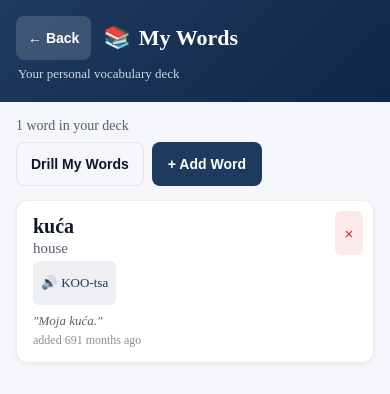
Scenario: MyWordsScreen — delete word › × button removes the word from the list
What coordinates should you click on to do the following:
click the button titled "Delete word"
I would click on:
 (349, 233)
Its box is [335, 211, 363, 255].
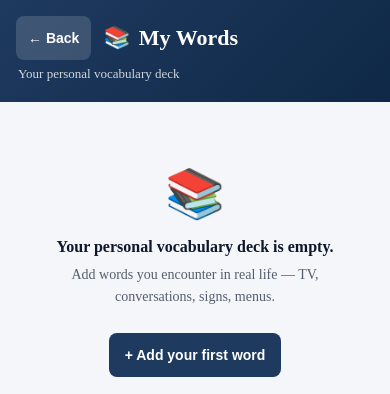
Expected: the text "kuća" is gone
